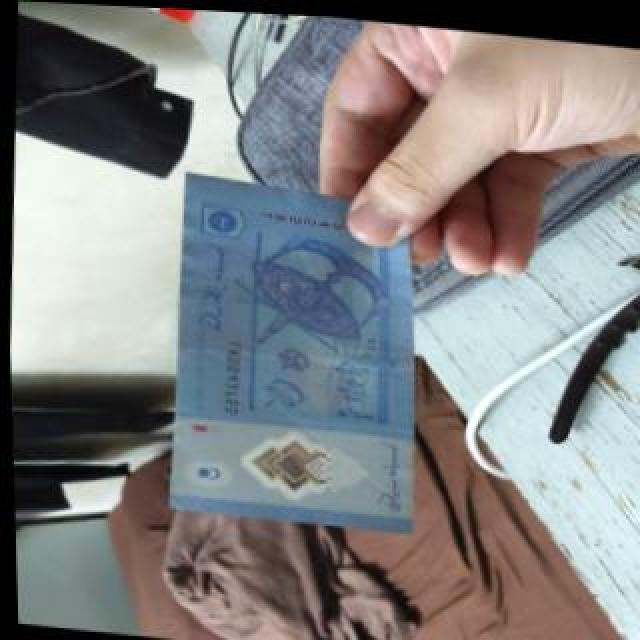1 Ringgit: (154, 158, 422, 533)
